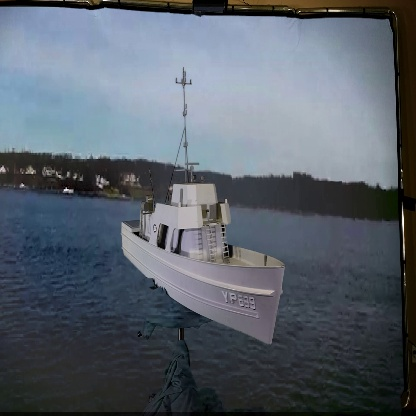YP689: (120, 64, 289, 345)
